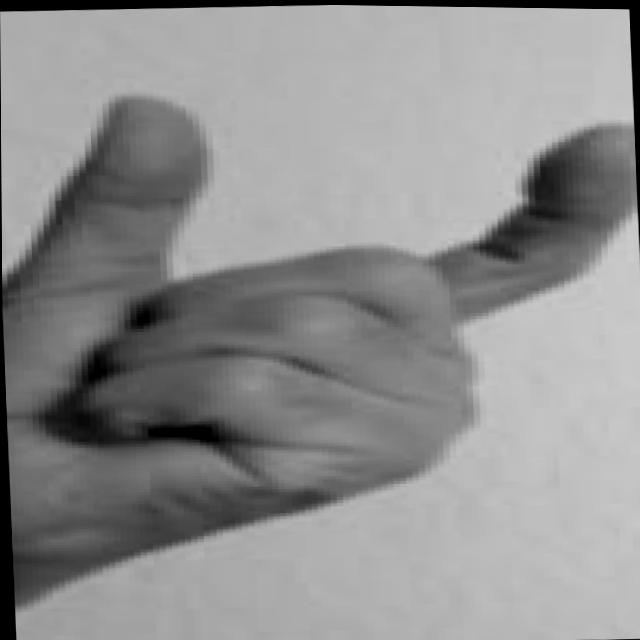U: (0, 67, 640, 621)
